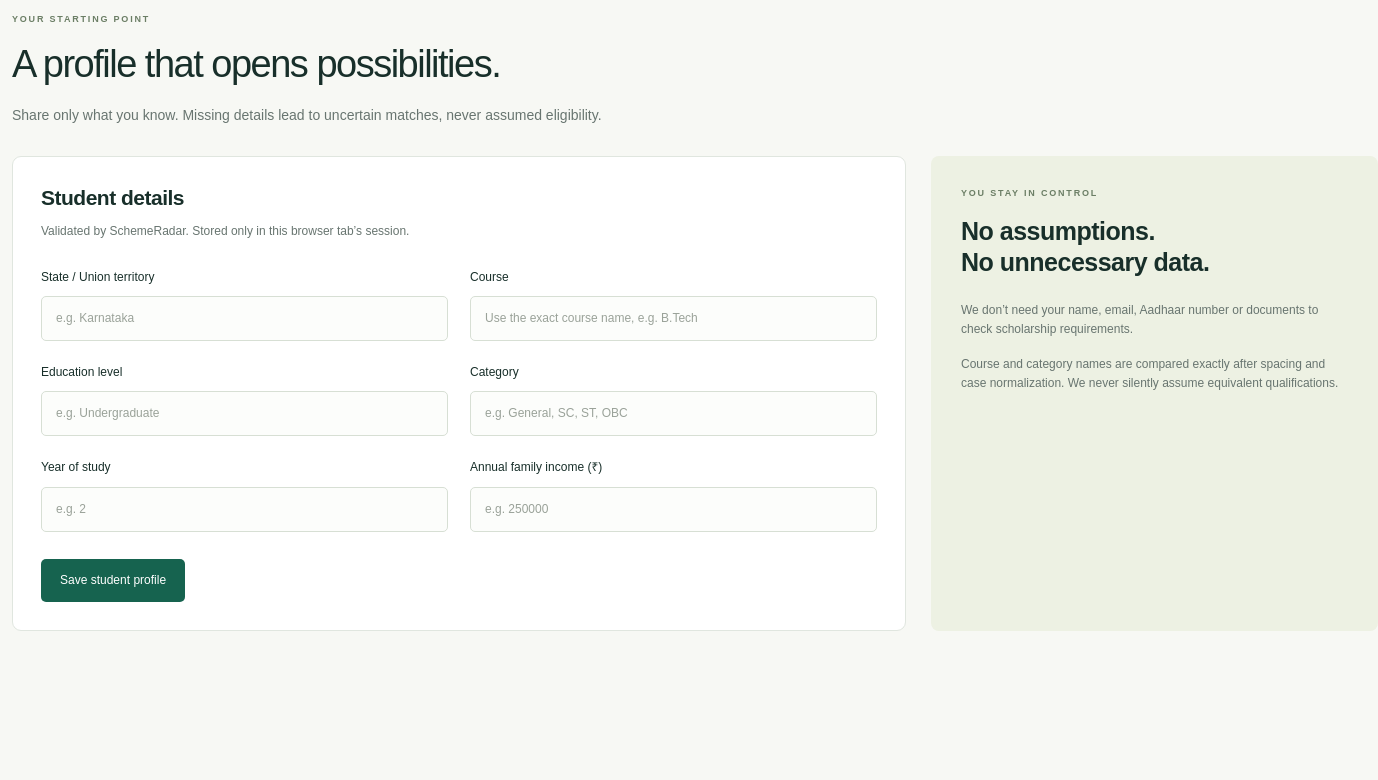
Test case: Student-facing forms › shows backend errors without claiming a saved profile
The width and height of the screenshot is (1378, 780).
Click the button "Save student profile": (113, 580) [41,559,185,602]
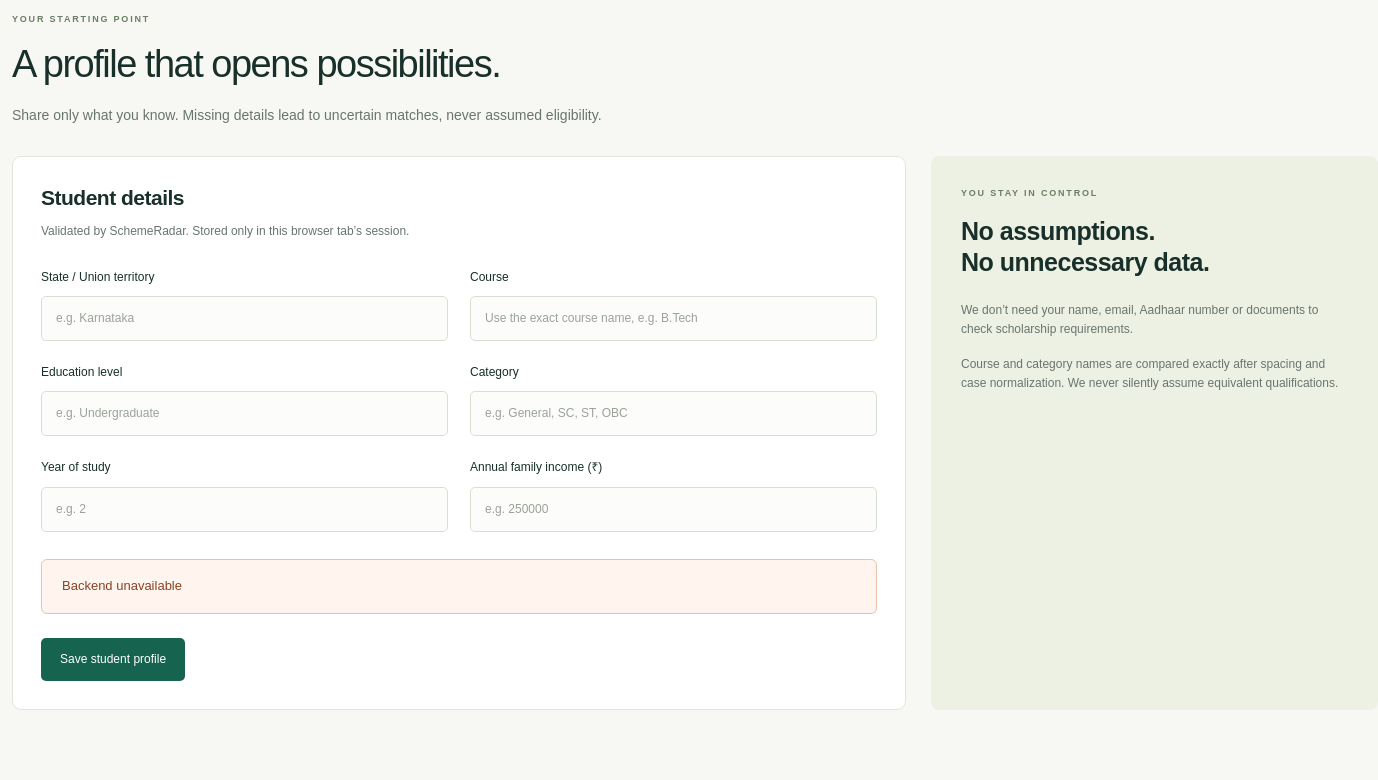
Now the message reads "Backend unavailable", box [62,578,182,593]
